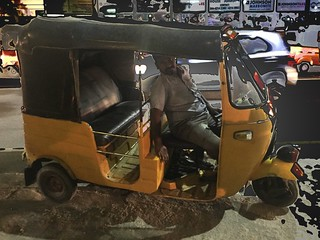threewheel: (16, 16, 304, 208)
